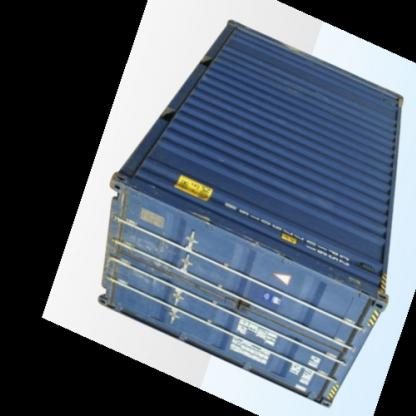Damage: (112, 228, 184, 296), (229, 231, 292, 267), (322, 263, 374, 299)
